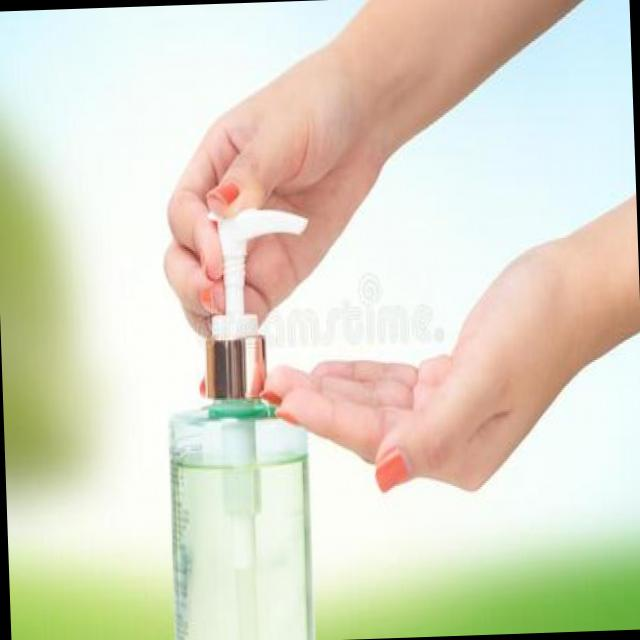sanitizer: (152, 195, 318, 634)
